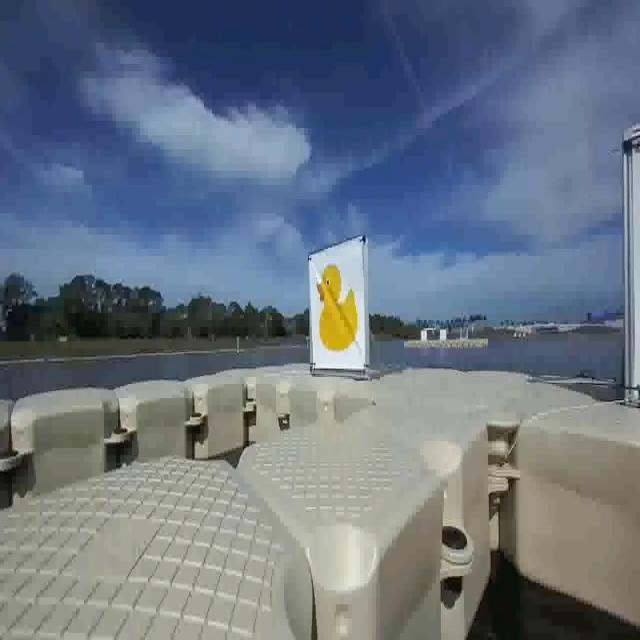yellow-duck: (306, 245, 367, 374)
